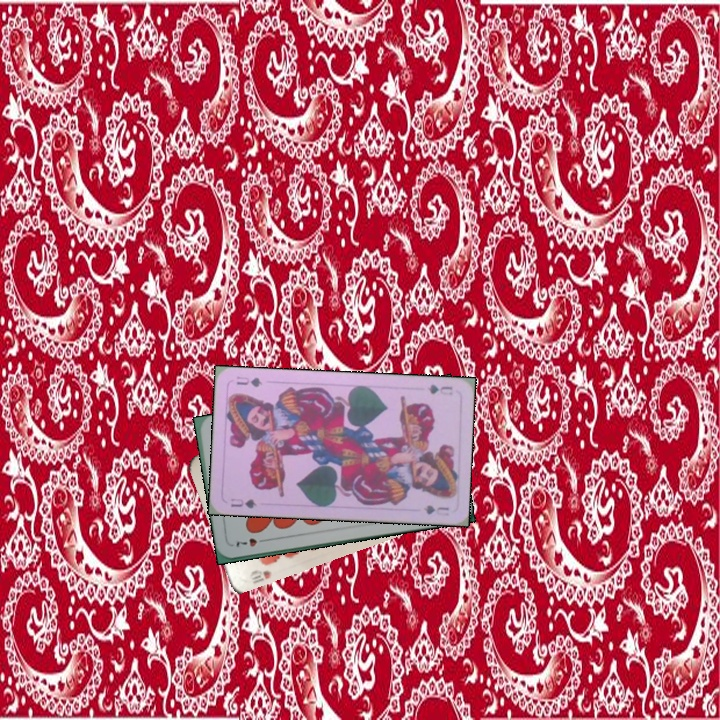GU: (423, 380, 455, 398), (227, 495, 259, 511)
H10: (245, 566, 273, 586)
H7: (232, 534, 270, 549)
